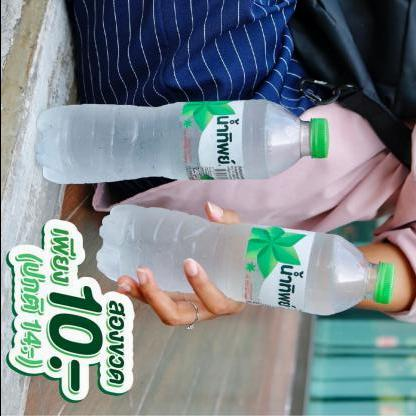bottle: (98, 199, 390, 319), (32, 94, 328, 188)
